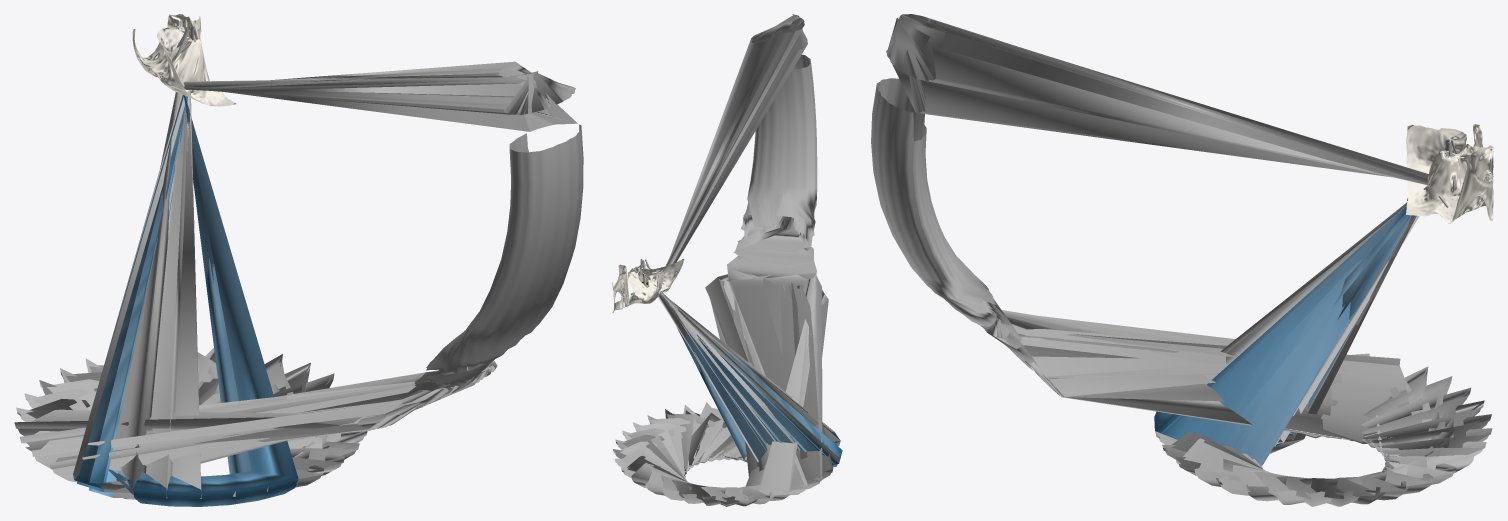
The model's file is sight2.obj.
3 renders of one model, left to right at view 1: azimuth 30°, elevation 25°; view 2: azimuth 150°, elevation 25°; view 3: azimuth 270°, elevation 25°, orthographic. The views are drawn at different scales.
Visible parts, largest first — view 1: SighTe01_pivot, SighCorn, SighSkul_pivot; view 2: SighTe01_pivot, SighCorn, SighSkul_pivot; view 3: SighTe01_pivot, SighCorn, SighSkul_pivot.
Part boxes in pixels (bbox=[...]): SighTe01_pivot: bbox=[14, 61, 583, 499]; SighCorn: bbox=[74, 94, 298, 506]; SighSkul_pivot: bbox=[132, 14, 236, 106]; SighTe01_pivot: bbox=[613, 14, 841, 506]; SighCorn: bbox=[677, 327, 842, 467]; SighSkul_pivot: bbox=[612, 258, 684, 312]; SighTe01_pivot: bbox=[871, 14, 1492, 506]; SighCorn: bbox=[1154, 206, 1411, 465]; SighSkul_pivot: bbox=[1406, 124, 1493, 224].
Size of the model in its own units: 48.35 by 74.51 by 83.91.
9 materials, 3 textured.
